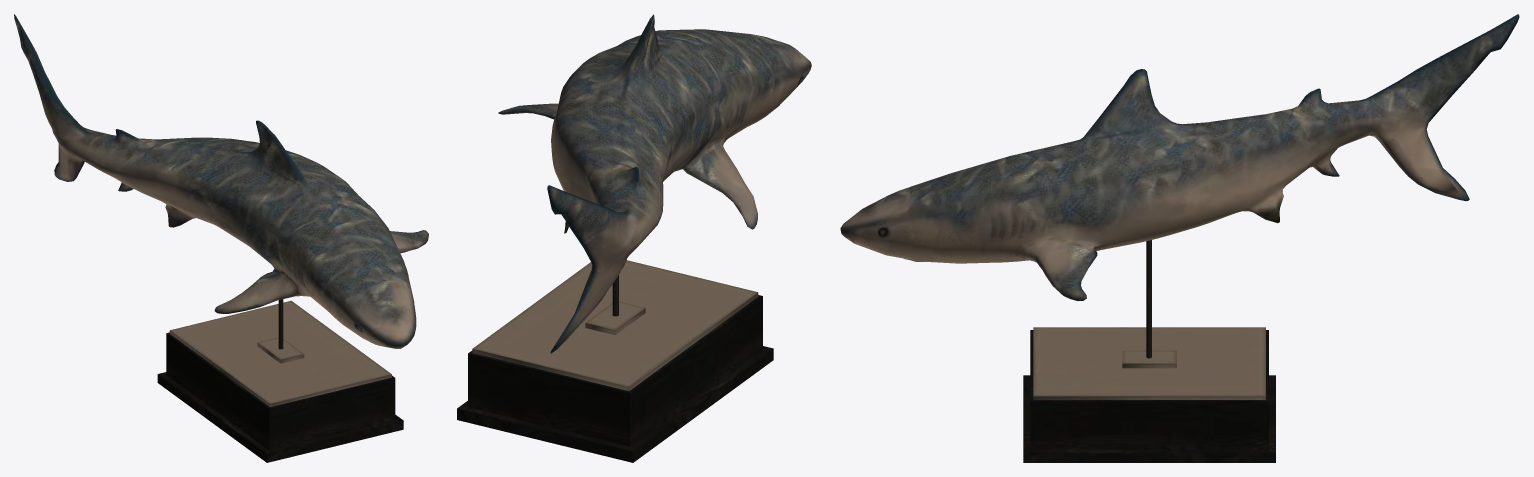
File: bronze_shark_statue.glb
3 renders of one model, left to right at view 1: azimuth 30°, elevation 25°; view 2: azimuth 150°, elevation 25°; view 3: azimuth 270°, elevation 25°, orthographic. The views are drawn at different scales.
Visible parts, largest first — view 1: bronze_shark_statue; view 2: bronze_shark_statue; view 3: bronze_shark_statue.
Boxes of the visible parts, bbox=[...] form: bronze_shark_statue: bbox=[14, 14, 428, 462]; bronze_shark_statue: bbox=[457, 14, 811, 462]; bronze_shark_statue: bbox=[840, 14, 1519, 462].
Size of the model in its own units: 0.3518 by 0.4316 by 0.7598.
Materials: 1 (1 with a texture image).
